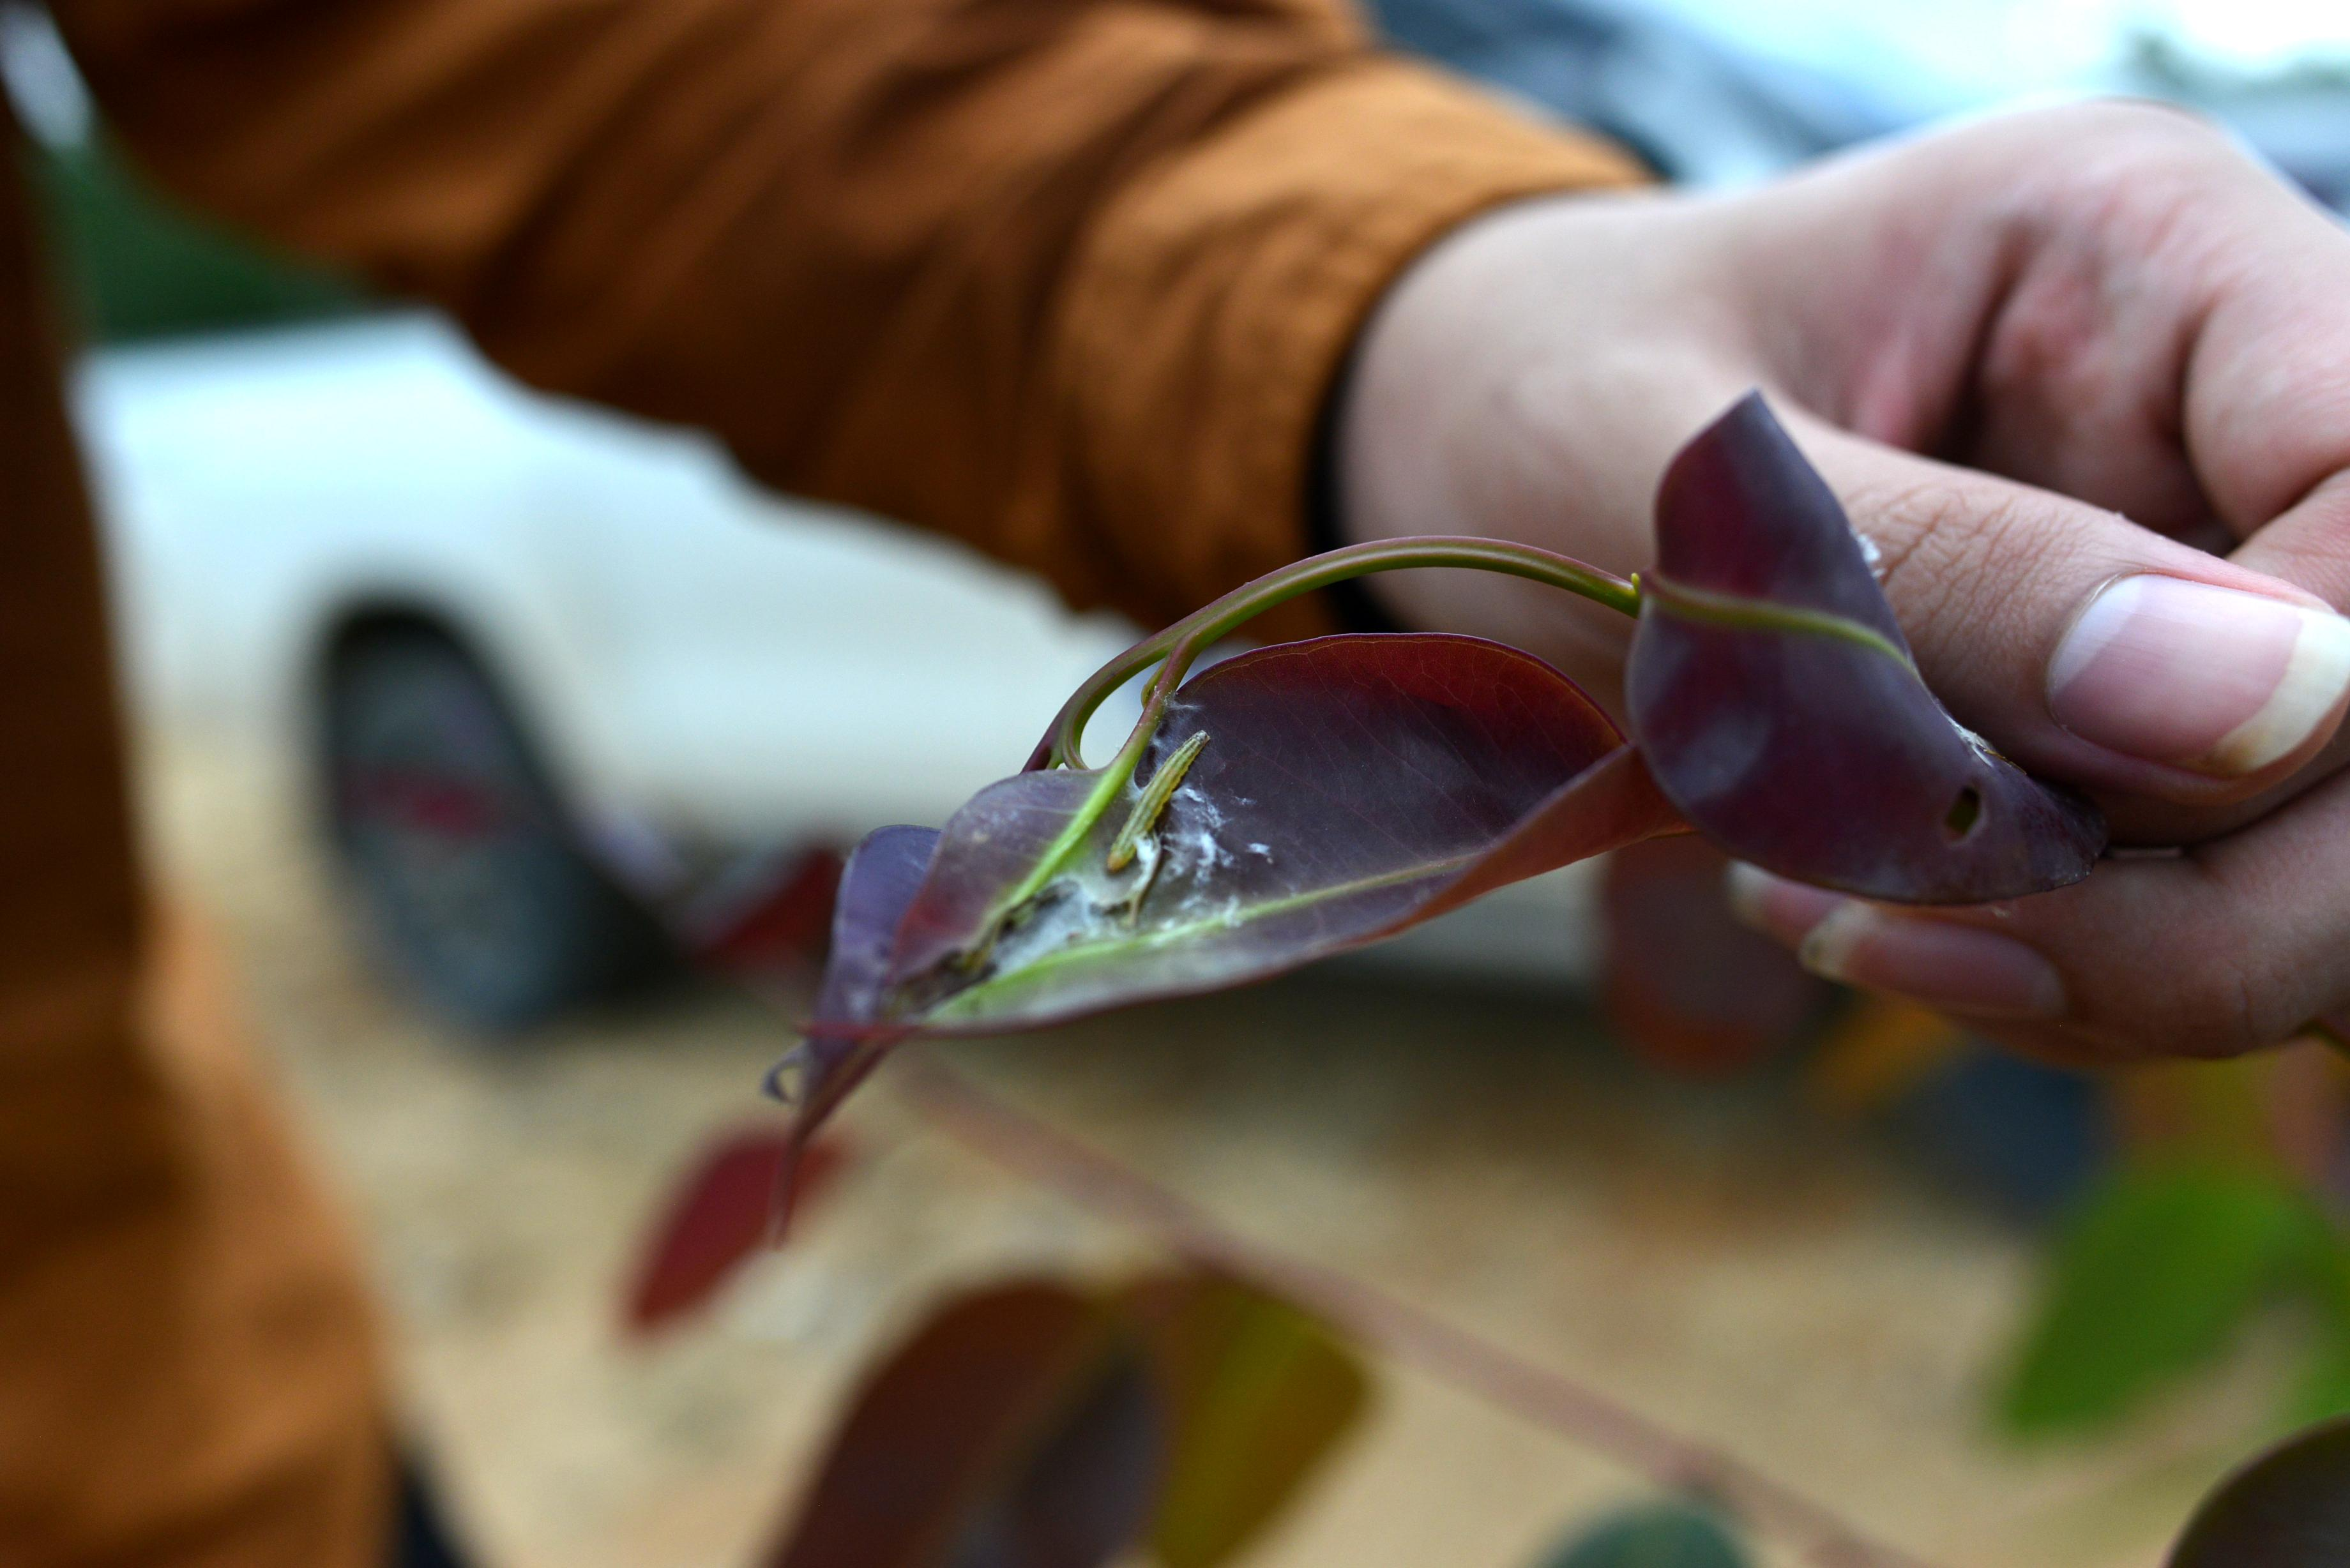Leaf Roller - Insect: (1102, 723, 1213, 880)
Leaf Roller - Leaf: (863, 635, 1699, 1041), (1624, 383, 2100, 903), (794, 817, 969, 1122)
